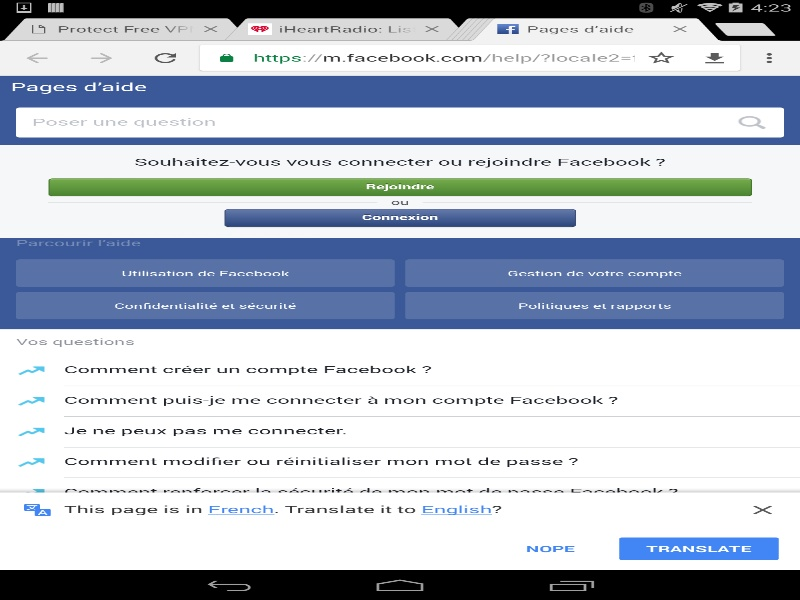Button: (48, 178, 752, 196), (224, 208, 576, 226), (619, 537, 778, 560), (491, 537, 608, 560), (725, 492, 800, 527), (5, 40, 69, 75), (69, 40, 133, 75), (133, 40, 197, 75), (742, 40, 800, 75), (634, 45, 688, 70), (200, 45, 253, 70), (688, 45, 741, 70)
Input: (21, 109, 752, 135), (253, 46, 634, 68)
